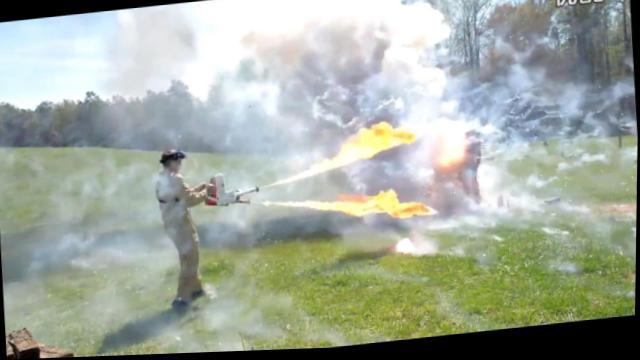fire: (356, 128, 393, 155), (389, 202, 441, 221), (341, 199, 378, 220), (341, 139, 373, 162), (376, 190, 398, 215), (391, 130, 414, 148), (318, 201, 342, 215), (323, 158, 342, 171), (308, 164, 324, 176), (304, 201, 320, 212), (289, 202, 305, 210)
